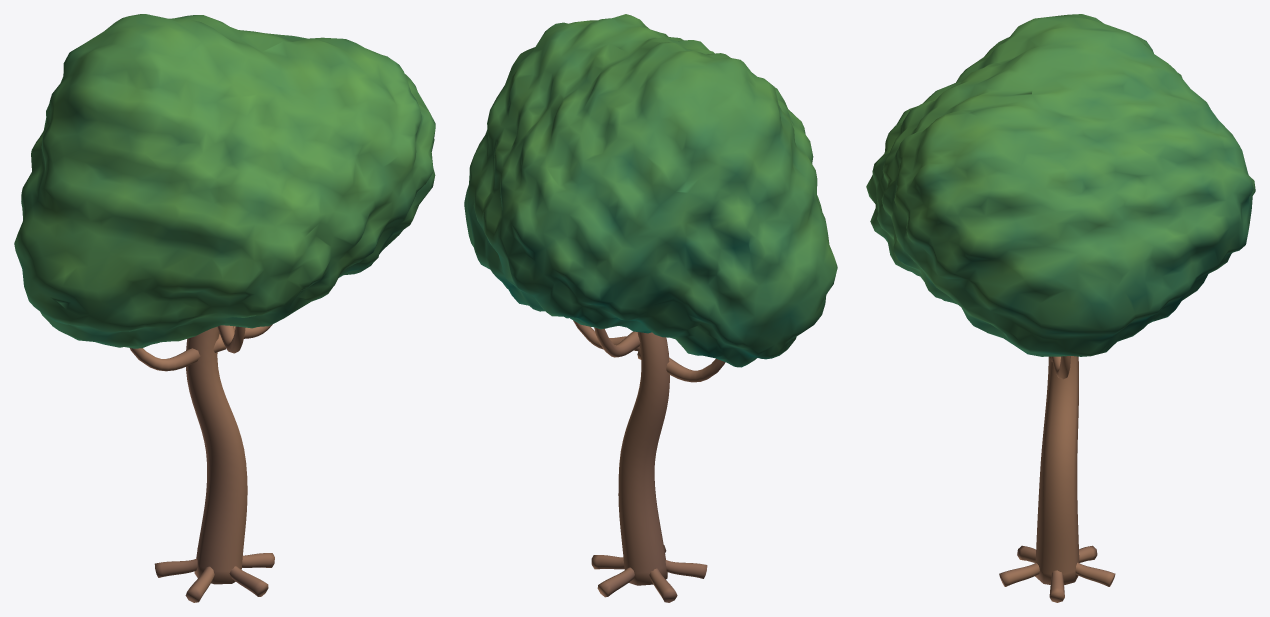
The model's file is garden-tree-near.glb.
3 views of the same model, side by side, from view 1: azimuth 30°, elevation 25°; view 2: azimuth 150°, elevation 25°; view 3: azimuth 270°, elevation 25° (orthographic). The views are drawn at different scales.
Visible parts, largest first — view 1: Sculpted crown.001, Painted trunk and roots; view 2: Sculpted crown.001, Painted trunk and roots; view 3: Sculpted crown.001, Painted trunk and roots.
Part boxes in pixels (left/top/right/bottom): Sculpted crown.001: left=14, top=14, right=435, bottom=348; Painted trunk and roots: left=130, top=324, right=274, bottom=602; Sculpted crown.001: left=464, top=14, right=837, bottom=367; Painted trunk and roots: left=573, top=320, right=725, bottom=602; Sculpted crown.001: left=866, top=14, right=1255, bottom=356; Painted trunk and roots: left=999, top=356, right=1115, bottom=602.
Bounding box in the file's own units: 6.2 × 9.11 × 6.07.
